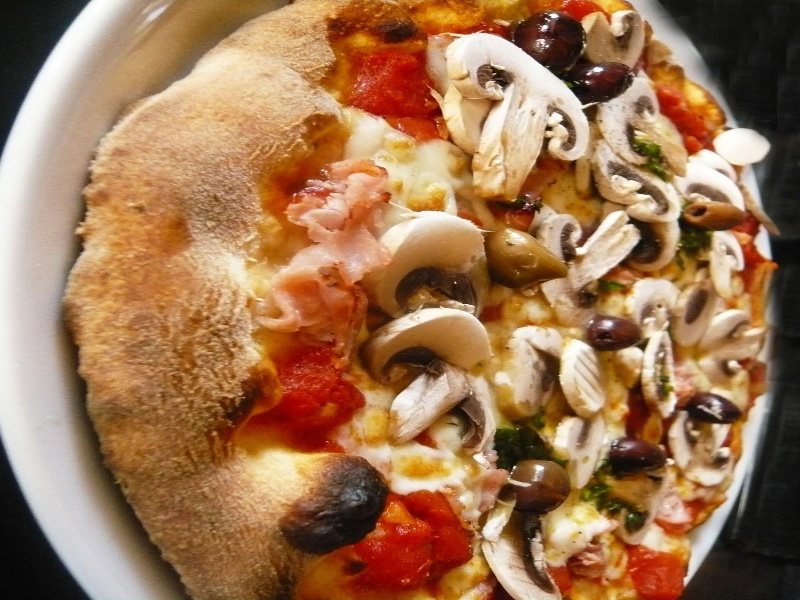champignon: (441, 29, 601, 202), (531, 204, 644, 330), (359, 308, 503, 384)
